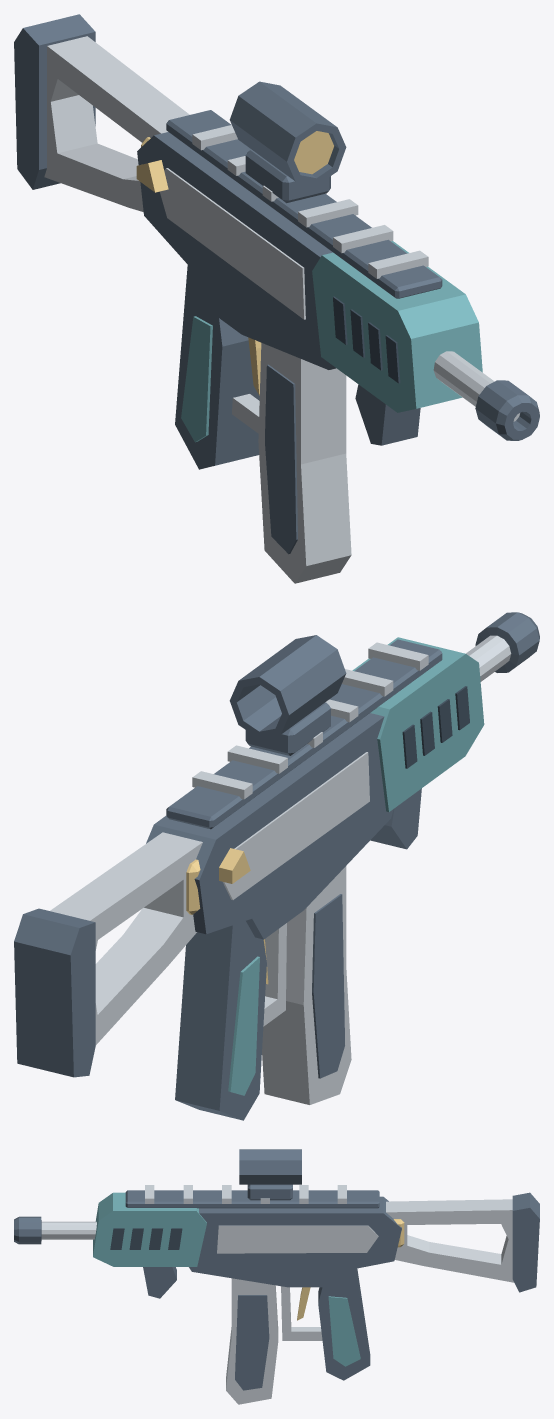
Rendered from weapon_compact_rifle.glb.
The picture shows the model from 3 angles, top to bottom: view 1: azimuth 30°, elevation 25°; view 2: azimuth 150°, elevation 25°; view 3: azimuth 270°, elevation 25°; orthographic projection. The views are drawn at different scales.
Visible parts, largest first — view 1: weapon_compact_rifle_AngularReceiver, weapon_compact_rifle_FacetedHandguard, weapon_compact_rifle_OpenStock, weapon_compact_rifle_CurvedMagazine, weapon_compact_rifle_PistolGrip, weapon_compact_rifle_TopRail, weapon_compact_rifle_ReceiverInset_-1, weapon_compact_rifle_OpticHood, weapon_compact_rifle_ShoulderPad, weapon_compact_rifle_MagazineInset_-1, weapon_compact_rifle_GripInset_-1, weapon_compact_rifle_MuzzleBrake (+10 smaller); view 2: weapon_compact_rifle_AngularReceiver, weapon_compact_rifle_OpenStock, weapon_compact_rifle_ShoulderPad, weapon_compact_rifle_PistolGrip, weapon_compact_rifle_CurvedMagazine, weapon_compact_rifle_FacetedHandguard, weapon_compact_rifle_OpticHood, weapon_compact_rifle_TopRail, weapon_compact_rifle_ReceiverInset_-1, weapon_compact_rifle_MagazineInset_-1, weapon_compact_rifle_GripInset_-1, weapon_compact_rifle_MuzzleBrake (+10 smaller); view 3: weapon_compact_rifle_AngularReceiver, weapon_compact_rifle_OpenStock, weapon_compact_rifle_FacetedHandguard, weapon_compact_rifle_ReceiverInset_1, weapon_compact_rifle_TopRail, weapon_compact_rifle_MagazineInset_1, weapon_compact_rifle_CurvedMagazine, weapon_compact_rifle_PistolGrip, weapon_compact_rifle_ShoulderPad, weapon_compact_rifle_OpticHood, weapon_compact_rifle_GripInset_1, weapon_compact_rifle_ExposedBarrel (+4 smaller).
Part boxes in pixels (x1,y1,x2,y2): weapon_compact_rifle_AngularReceiver: [137, 132, 335, 369]; weapon_compact_rifle_FacetedHandguard: [312, 241, 482, 412]; weapon_compact_rifle_OpenStock: [44, 36, 189, 211]; weapon_compact_rifle_CurvedMagazine: [258, 343, 351, 583]; weapon_compact_rifle_PistolGrip: [175, 265, 259, 469]; weapon_compact_rifle_TopRail: [166, 110, 442, 298]; weapon_compact_rifle_ReceiverInset_-1: [160, 168, 305, 319]; weapon_compact_rifle_OpticHood: [229, 81, 346, 185]; weapon_compact_rifle_ShoulderPad: [14, 14, 95, 189]; weapon_compact_rifle_MagazineInset_-1: [265, 364, 297, 554]; weapon_compact_rifle_GripInset_-1: [181, 316, 212, 442]; weapon_compact_rifle_MuzzleBrake: [475, 380, 539, 440]; weapon_compact_rifle_AngularReceiver: [146, 713, 393, 939]; weapon_compact_rifle_OpenStock: [50, 832, 202, 1045]; weapon_compact_rifle_ShoulderPad: [14, 908, 95, 1077]; weapon_compact_rifle_PistolGrip: [175, 921, 266, 1120]; weapon_compact_rifle_CurvedMagazine: [262, 866, 351, 1104]; weapon_compact_rifle_FacetedHandguard: [352, 637, 484, 811]; weapon_compact_rifle_OpticHood: [229, 635, 346, 738]; weapon_compact_rifle_TopRail: [166, 639, 442, 829]; weapon_compact_rifle_ReceiverInset_-1: [223, 752, 369, 899]; weapon_compact_rifle_MagazineInset_-1: [312, 894, 344, 1078]; weapon_compact_rifle_GripInset_-1: [228, 956, 259, 1095]; weapon_compact_rifle_MuzzleBrake: [475, 612, 539, 672]; weapon_compact_rifle_AngularReceiver: [189, 1196, 401, 1287]; weapon_compact_rifle_OpenStock: [386, 1199, 513, 1282]; weapon_compact_rifle_FacetedHandguard: [93, 1192, 206, 1266]; weapon_compact_rifle_ReceiverInset_1: [217, 1225, 378, 1253]; weapon_compact_rifle_TopRail: [125, 1190, 379, 1208]; weapon_compact_rifle_MagazineInset_1: [235, 1295, 269, 1390]; weapon_compact_rifle_CurvedMagazine: [226, 1278, 278, 1404]; weapon_compact_rifle_PistolGrip: [318, 1268, 370, 1380]; weapon_compact_rifle_ShoulderPad: [512, 1192, 539, 1292]; weapon_compact_rifle_OpticHood: [239, 1149, 301, 1184]; weapon_compact_rifle_GripInset_1: [328, 1296, 360, 1366]; weapon_compact_rifle_ExposedBarrel: [41, 1221, 96, 1239].
Size of the model in its own units: 0.118 by 0.613 by 1.17.
